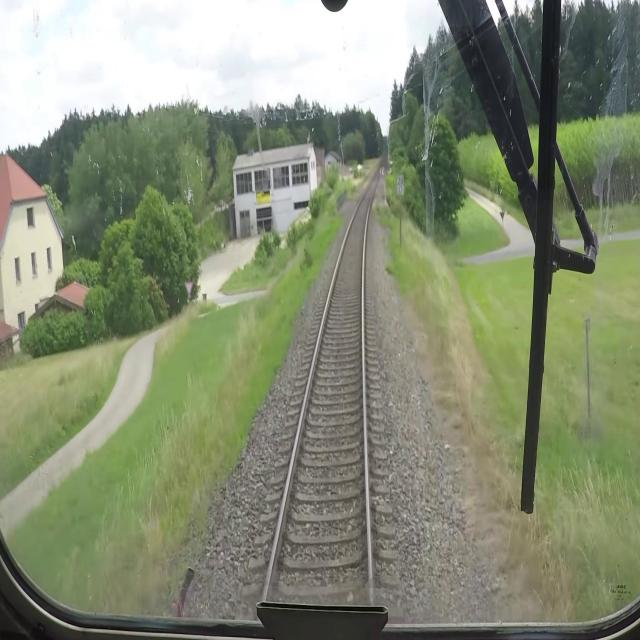rail-track: (271, 164, 380, 586)
